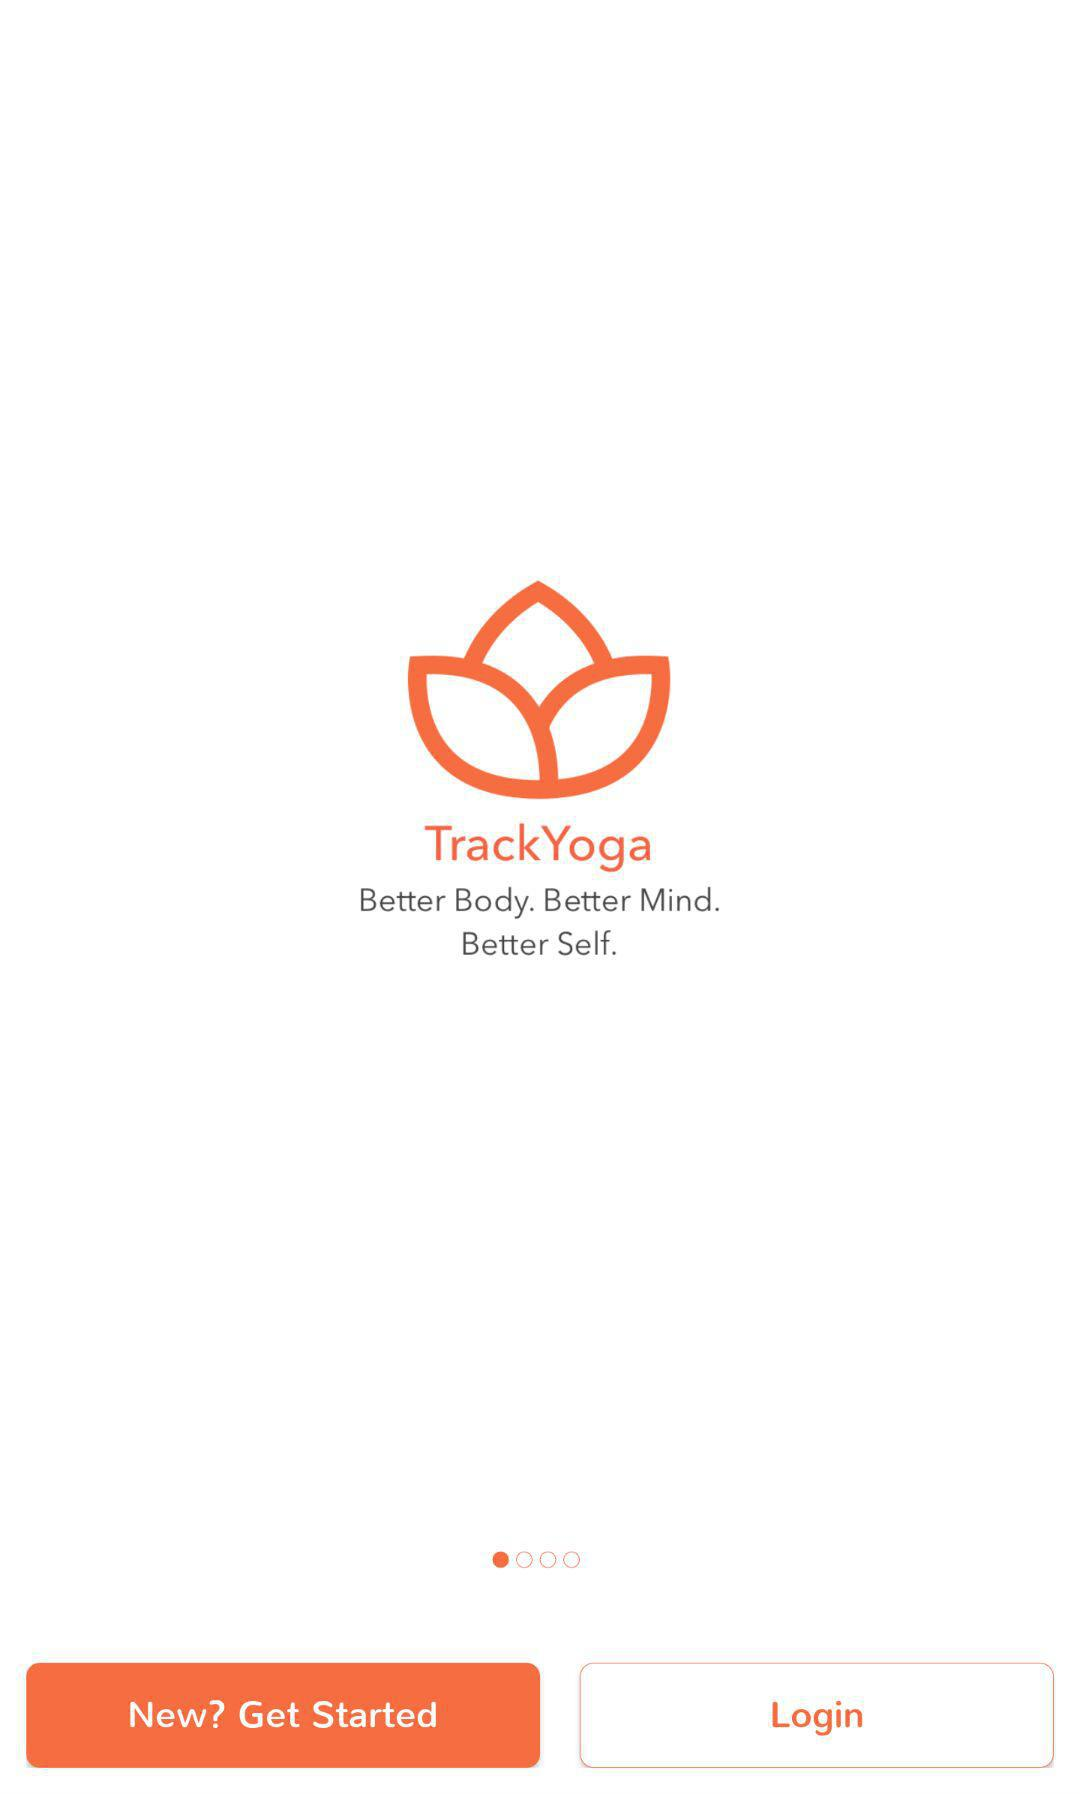Image: (407, 580, 673, 800)
PageIndicator: (492, 1551, 582, 1568)
Text: (361, 885, 720, 957), (424, 823, 651, 873)
TextButton: (27, 1662, 541, 1768), (579, 1662, 1054, 1768)
